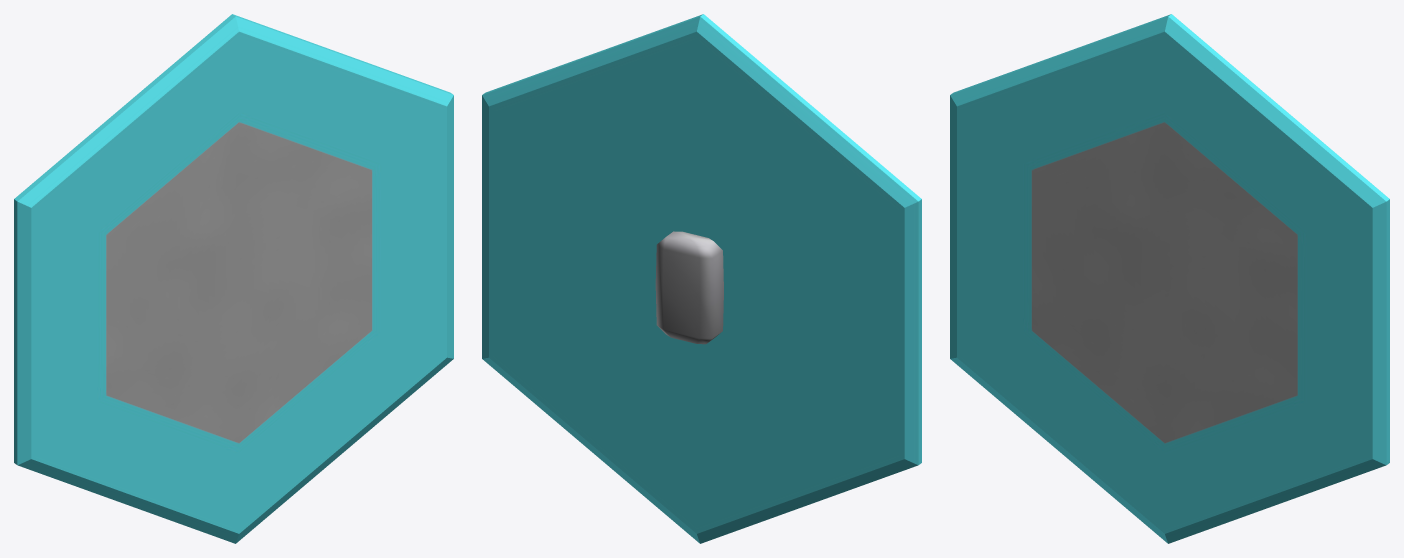
Rendered from bouclier-energie.glb.
The picture shows the model from 3 angles, left to right: view 1: azimuth 30°, elevation 25°; view 2: azimuth 150°, elevation 25°; view 3: azimuth 330°, elevation 25°; orthographic projection.
Visible parts, largest first — view 1: bouclier-energie; view 2: bouclier-energie; view 3: bouclier-energie.
Boxes of the visible parts, x1=… form: bouclier-energie: x1=14, y1=14, x2=453, y2=543; bouclier-energie: x1=482, y1=14, x2=921, y2=543; bouclier-energie: x1=950, y1=14, x2=1389, y2=543.
Bounding box in the file's own units: 0.7275 × 0.84 × 0.074.
Materials: 1 (1 with a texture image).
